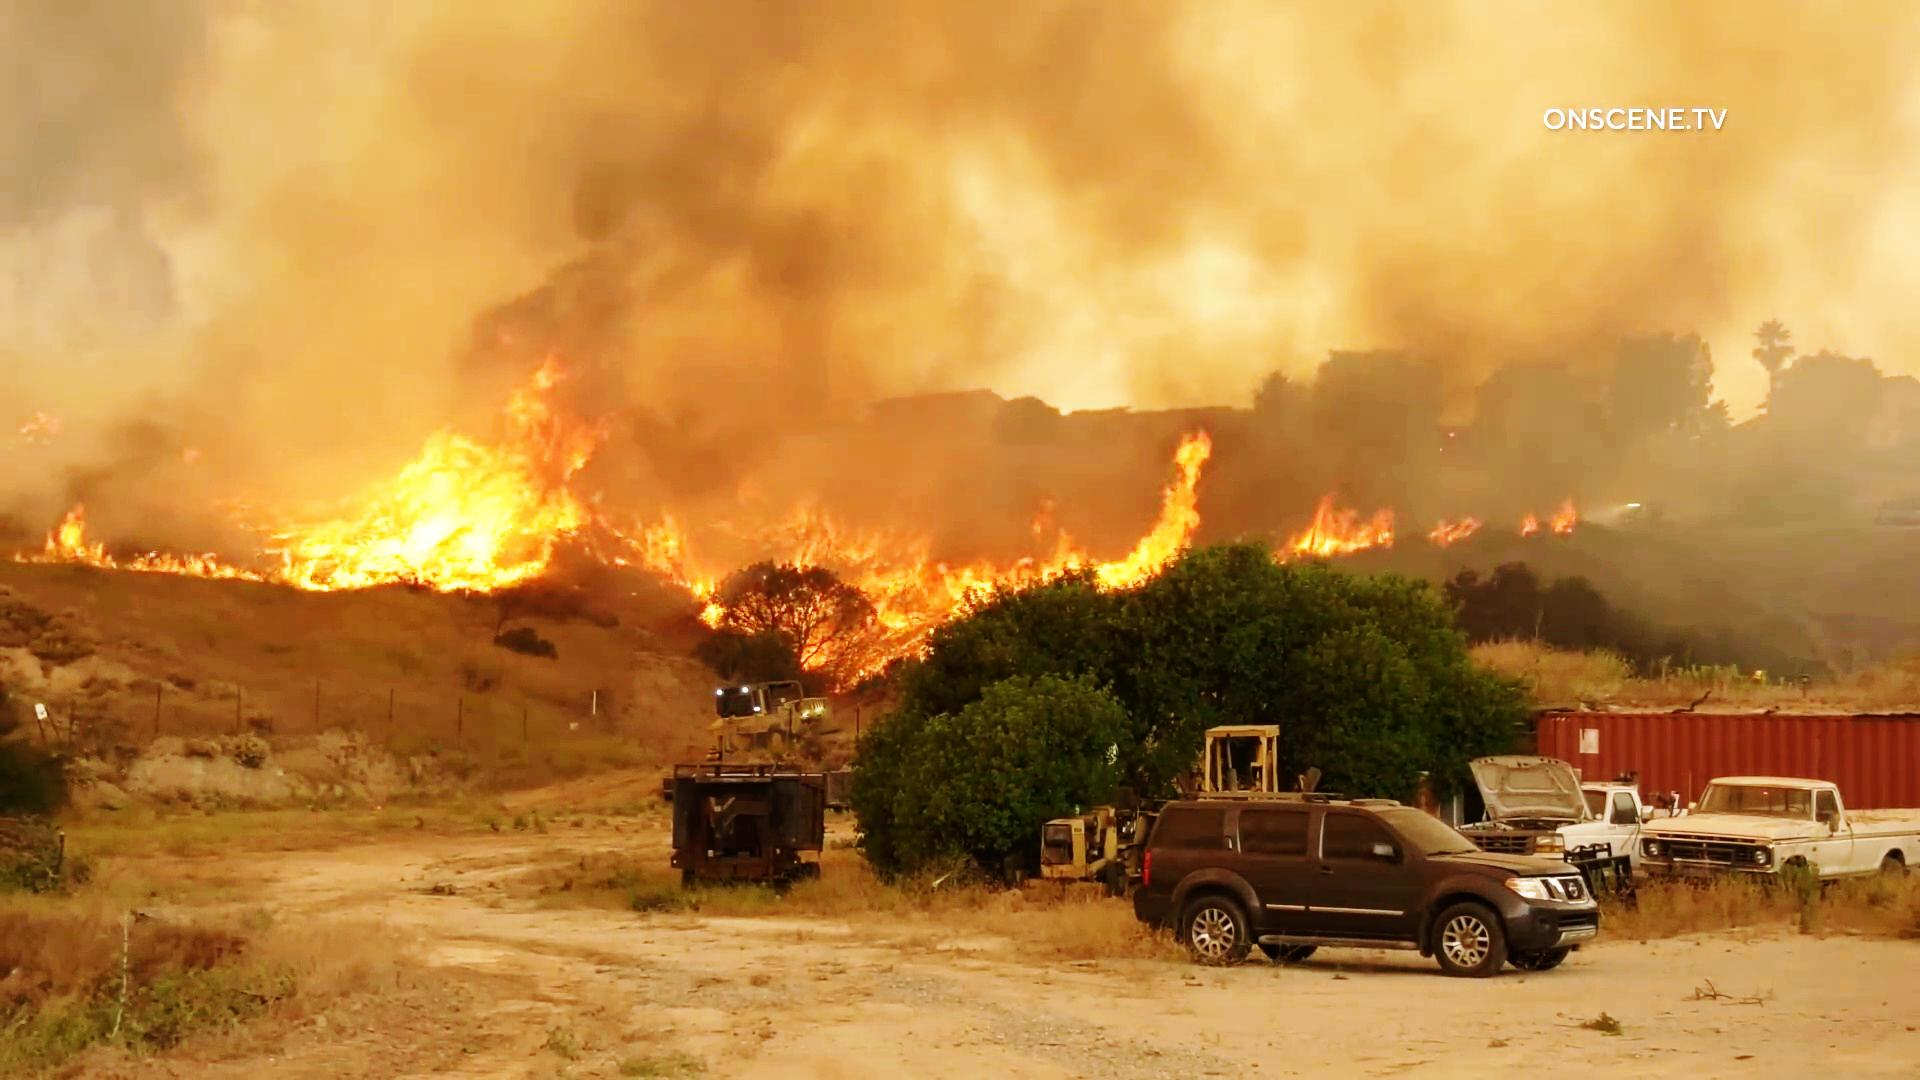fire: (285, 390, 600, 595), (802, 502, 981, 625), (1095, 433, 1225, 583)
smoke: (505, 21, 795, 363)
